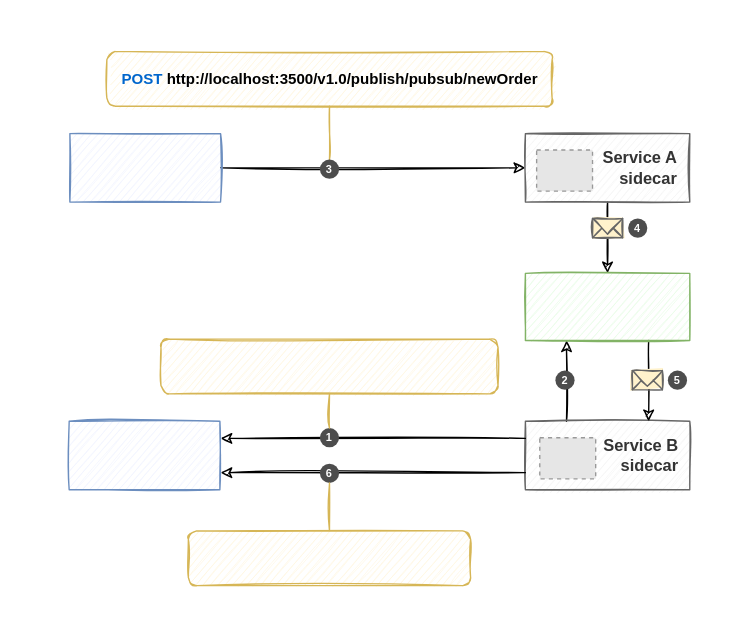
Some shapes in this 740 by 636 pixel diagram are drawn without their labels. Grey dashed boxes stand in for pictures. Here are the shapes that lost their labels. From the top down, the centre of each, then its label:
At (144,167): "Service A".
At (607,306): "Message broker".
At (329,366): "GET http://localhost:50001/dapr/subscribe".
At (144,455): "Service B".
At (329,558): "POST http://localhost:6000/orders".
